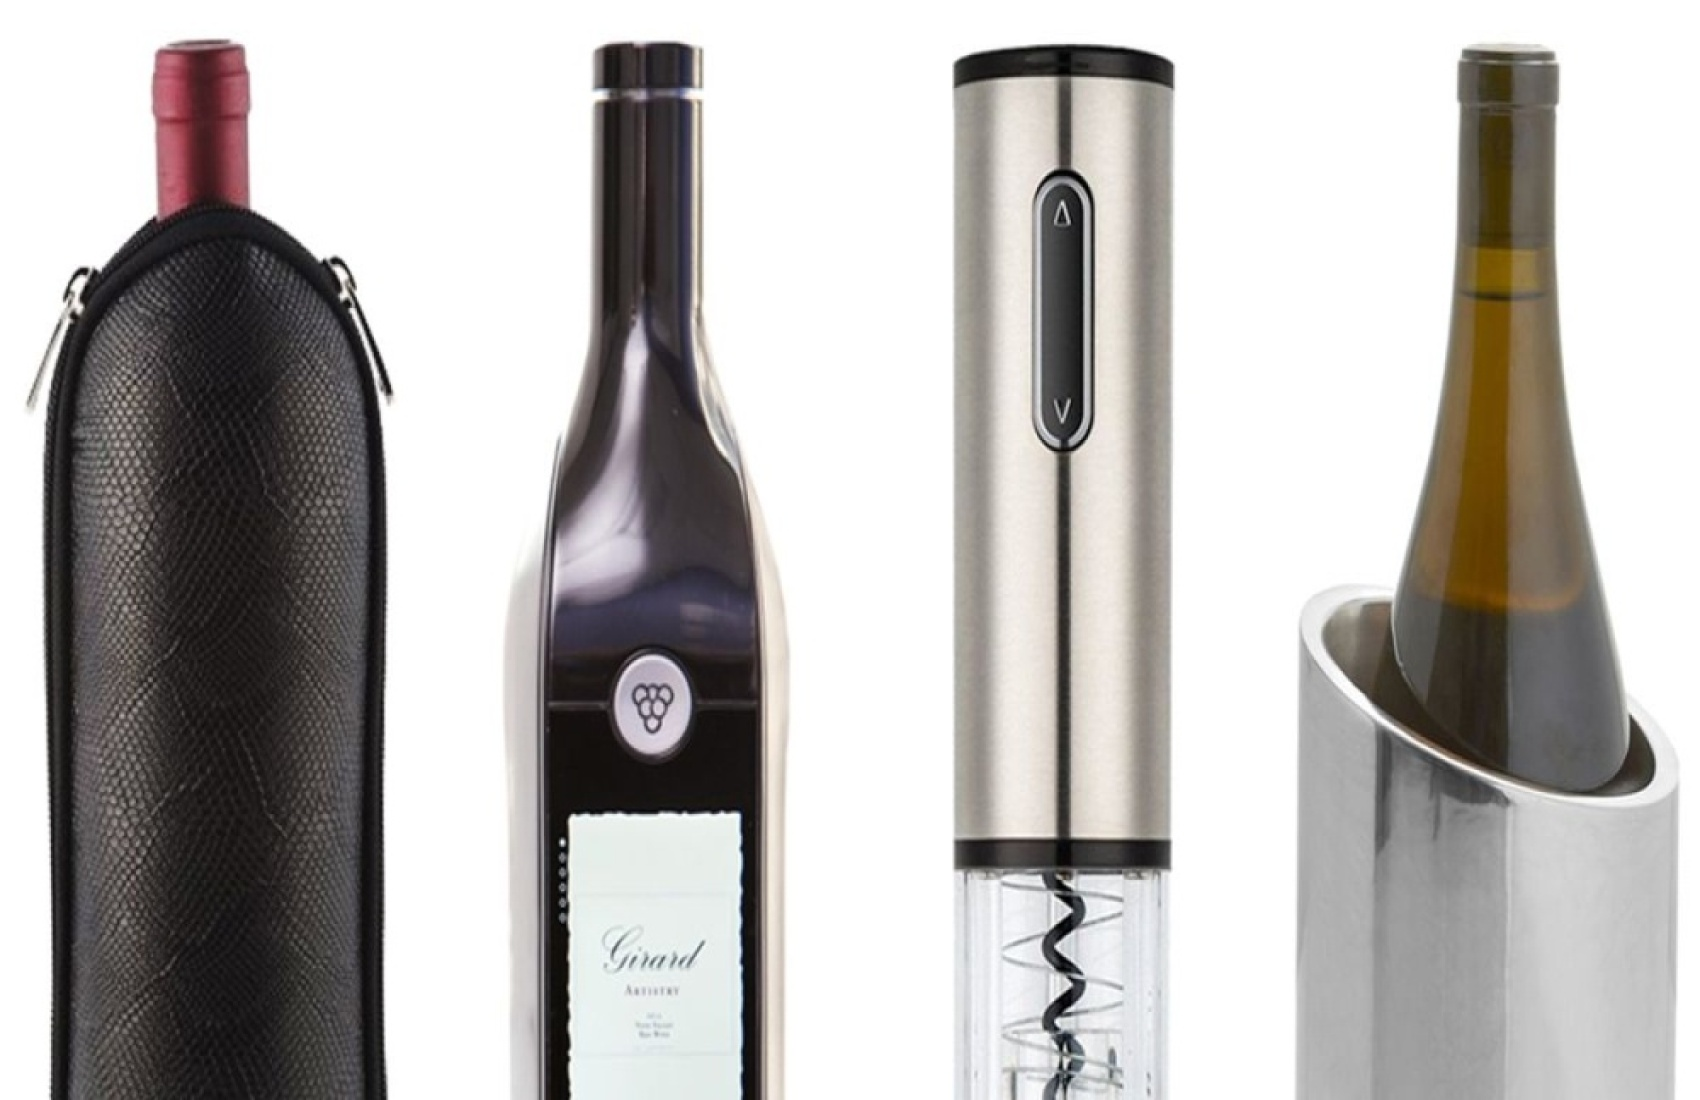wine: (484, 25, 798, 1100), (1387, 25, 1700, 1100)
